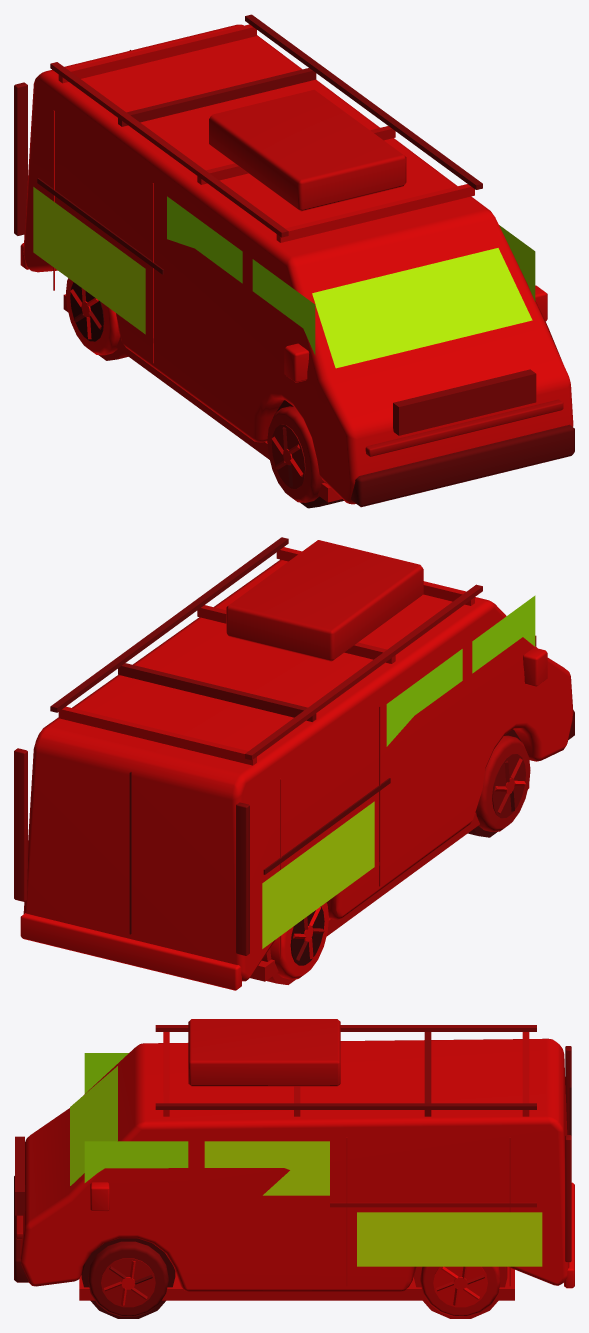
Rendered from car_van.glb.
3 views of the same model, one above another, from view 1: azimuth 30°, elevation 25°; view 2: azimuth 150°, elevation 25°; view 3: azimuth 270°, elevation 25° (orthographic). The views are drawn at different scales.
Visible parts, largest first — view 1: car_van, wheel_0, wheel_2; view 2: car_van, wheel_0, wheel_2; view 3: car_van, wheel_1, wheel_3.
Boxes of the visible parts, bbox=[...] form: car_van: bbox=[14, 14, 574, 508]; wheel_0: bbox=[267, 406, 324, 502]; wheel_2: bbox=[66, 278, 119, 355]; car_van: bbox=[14, 537, 574, 990]; wheel_0: bbox=[475, 735, 530, 831]; wheel_2: bbox=[270, 902, 328, 979]; car_van: bbox=[14, 1019, 574, 1318]; wheel_1: bbox=[88, 1241, 168, 1316]; wheel_3: bbox=[420, 1266, 500, 1316].
Size of the model in its own units: 2.22 by 2.4 by 5.15.
